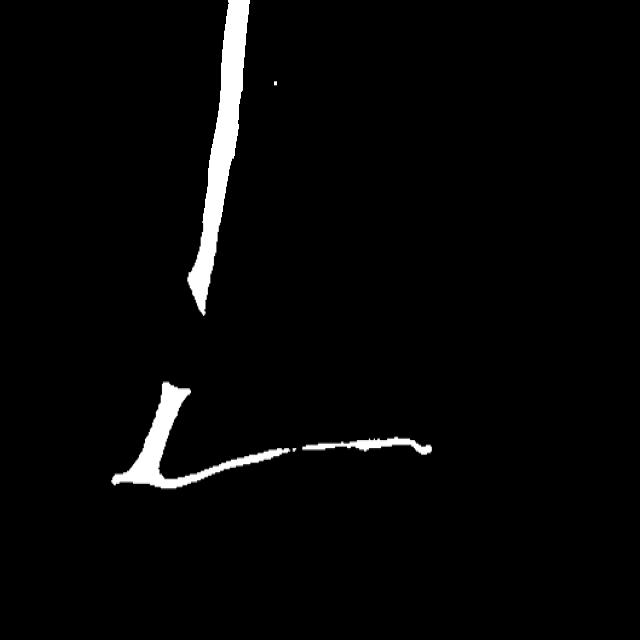inf: (280, 435, 317, 463)
